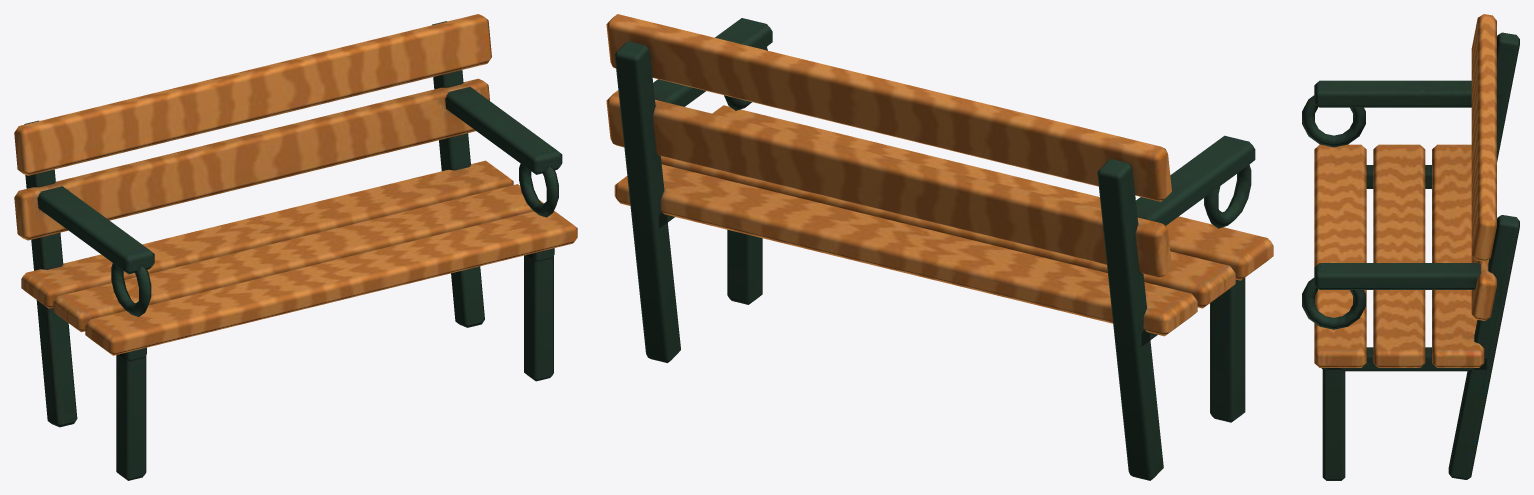
File: bench.glb
3 renders of one model, left to right at view 1: azimuth 30°, elevation 25°; view 2: azimuth 150°, elevation 25°; view 3: azimuth 270°, elevation 25°, orthographic. The views are drawn at different scales.
Parts seen in each view (by area): view 1: bench; view 2: bench; view 3: bench.
Part boxes in pixels (<box>): bench: <box>14,14,577,480</box>; bench: <box>606,14,1273,480</box>; bench: <box>1302,14,1519,480</box>.
Bounding box in the file's own units: 0.76 × 0.4557 × 0.3331.
Materials: 1 (1 with a texture image).
